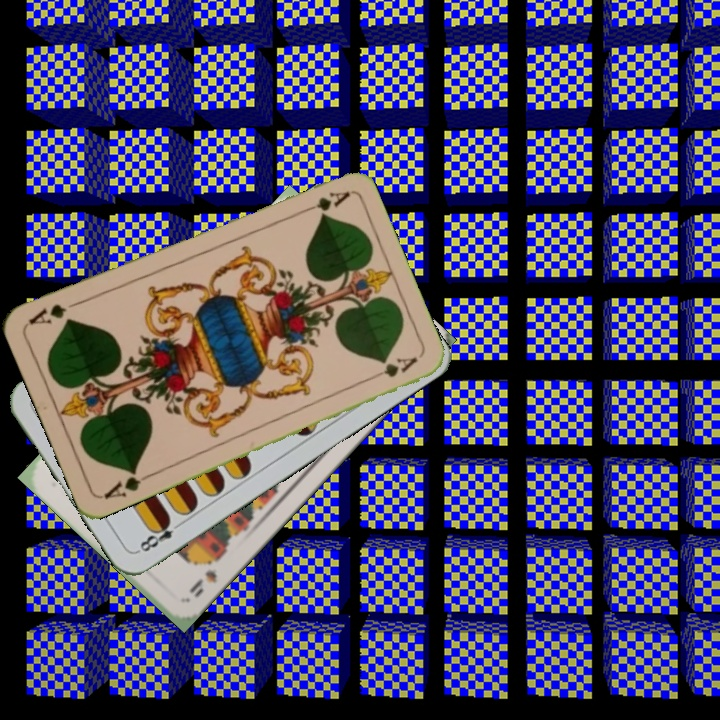E8: (133, 514, 186, 555)
GA: (100, 465, 155, 502), (294, 187, 352, 218)
S9: (185, 552, 225, 601)
